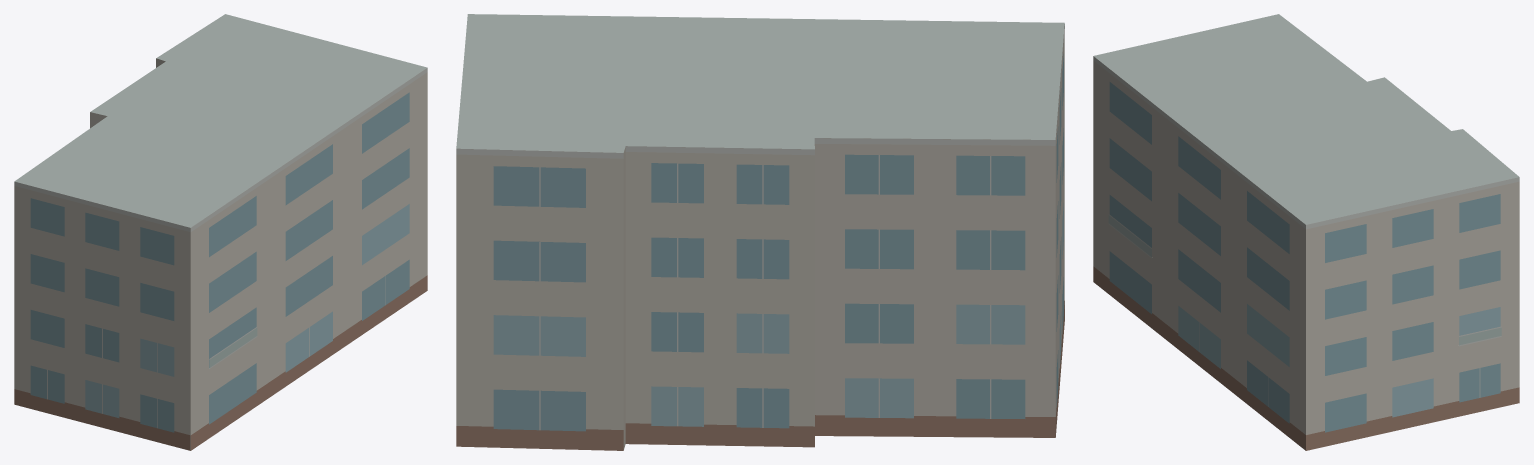
File: survey-upis-32793403.glb
3 views of the same model, side by side, from view 1: azimuth 30°, elevation 25°; view 2: azimuth 150°, elevation 25°; view 3: azimuth 270°, elevation 25° (orthographic). The views are drawn at different scales.
Parts seen in each view (by area): view 1: survey-upis-32793403.tmp; view 2: survey-upis-32793403.tmp; view 3: survey-upis-32793403.tmp.
Boxes of the visible parts, left/top/right/bottom form: survey-upis-32793403.tmp: left=14, top=14, right=427, bottom=450; survey-upis-32793403.tmp: left=456, top=14, right=1064, bottom=450; survey-upis-32793403.tmp: left=1093, top=14, right=1519, bottom=450.
Size of the model in its own units: 24.84 by 12.4 by 21.22.
